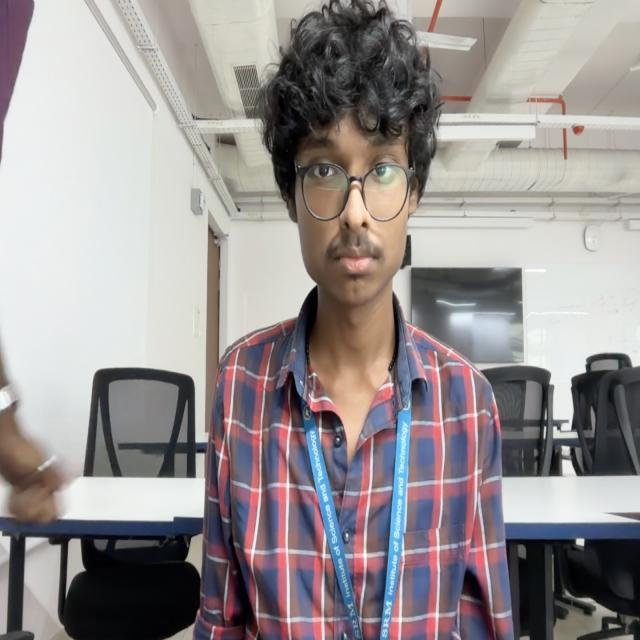darshan: (263, 2, 436, 296)
